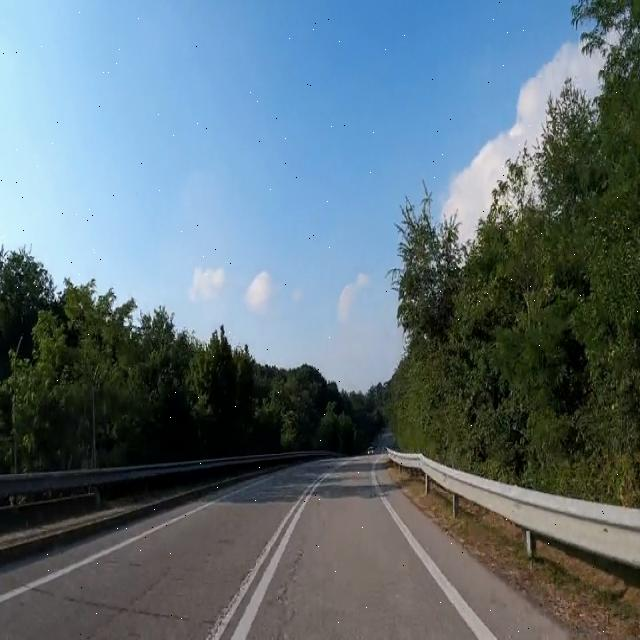lane: (371, 463, 496, 639), (1, 501, 216, 603), (206, 488, 310, 639), (231, 474, 325, 639)
